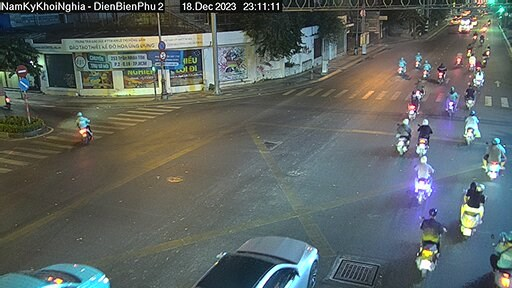car: (188, 225, 324, 288), (1, 244, 114, 288)
motorbike: (407, 210, 453, 276), (401, 158, 442, 208), (456, 183, 494, 233), (69, 109, 110, 152), (487, 226, 512, 281), (479, 137, 510, 177), (382, 120, 415, 153), (413, 123, 444, 151), (458, 113, 483, 143), (403, 84, 428, 111), (470, 64, 496, 88), (459, 76, 478, 107), (443, 86, 460, 115), (390, 53, 408, 75), (452, 45, 468, 67), (434, 61, 451, 81)
